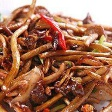chashugu: (1, 4, 112, 112)
